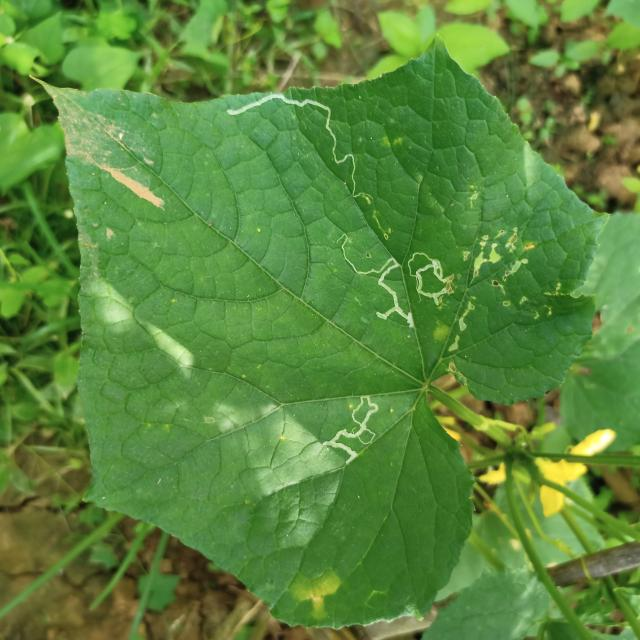disease_cucumber: (294, 572, 344, 622)
